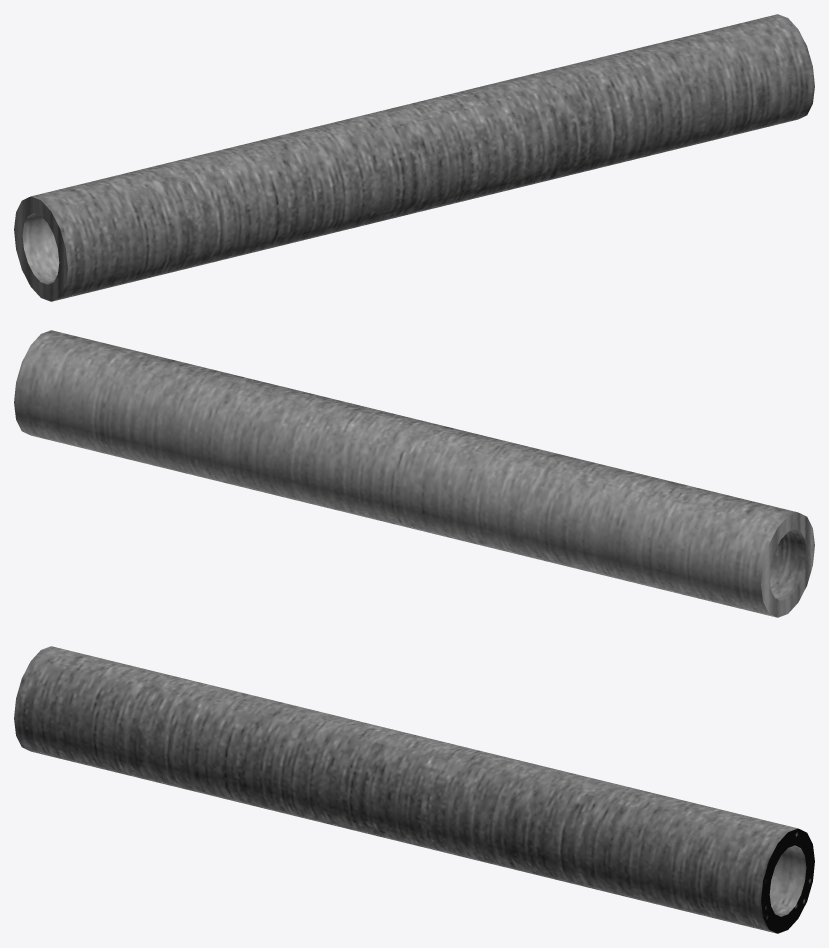
Rendered from JuniorFactory_SlicerClone_Pipe_v1.fbx.
The picture shows the model from 3 angles, top to bottom: view 1: azimuth 30°, elevation 25°; view 2: azimuth 150°, elevation 25°; view 3: azimuth 330°, elevation 25°; orthographic projection.
Visible parts, largest first — view 1: Pipe; view 2: Pipe; view 3: Pipe.
Part boxes in pixels (bbox=[...]): Pipe: bbox=[14, 14, 814, 301]; Pipe: bbox=[14, 330, 814, 617]; Pipe: bbox=[14, 646, 814, 933].
Size of the model in its own units: 720 by 90 by 90.
1 material, 1 textured.
